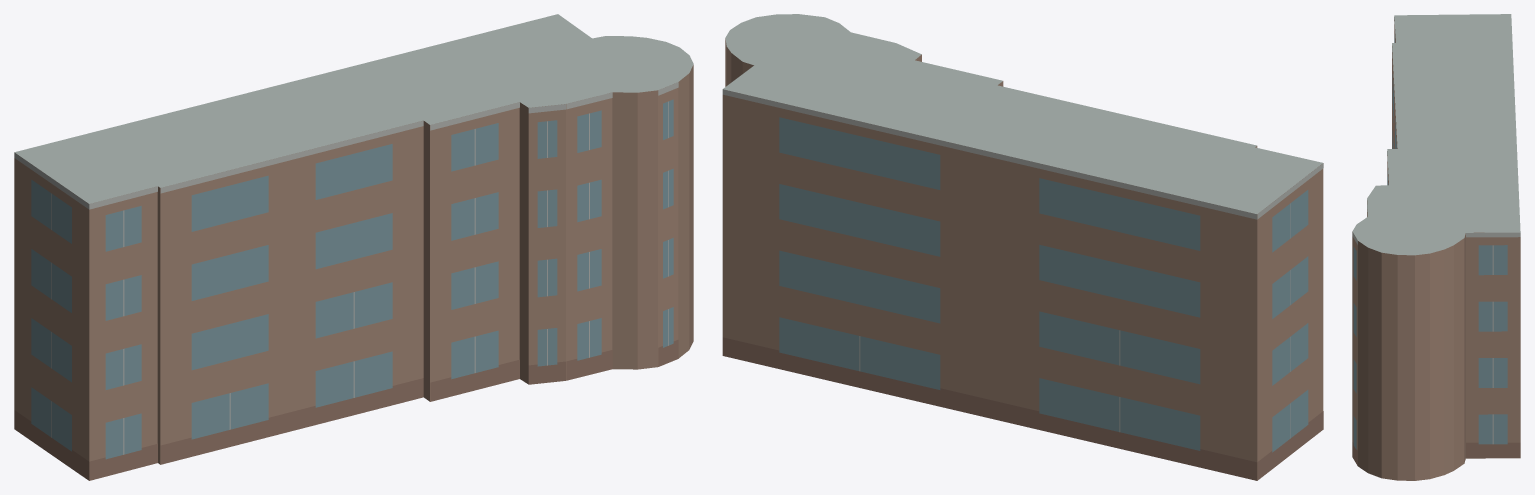
Rendered from survey-upis-32491244.glb.
3 views of the same model, side by side, from view 1: azimuth 30°, elevation 25°; view 2: azimuth 150°, elevation 25°; view 3: azimuth 270°, elevation 25° (orthographic). The views are drawn at different scales.
Visible parts, largest first — view 1: survey-upis-32491244.tmp; view 2: survey-upis-32491244.tmp; view 3: survey-upis-32491244.tmp.
Part boxes in pixels (left/top/right/bottom): survey-upis-32491244.tmp: left=14, top=14, right=693, bottom=480; survey-upis-32491244.tmp: left=722, top=14, right=1323, bottom=480; survey-upis-32491244.tmp: left=1352, top=14, right=1520, bottom=480.
Bounding box in the file's own units: 27.63 × 12.05 × 8.15.
